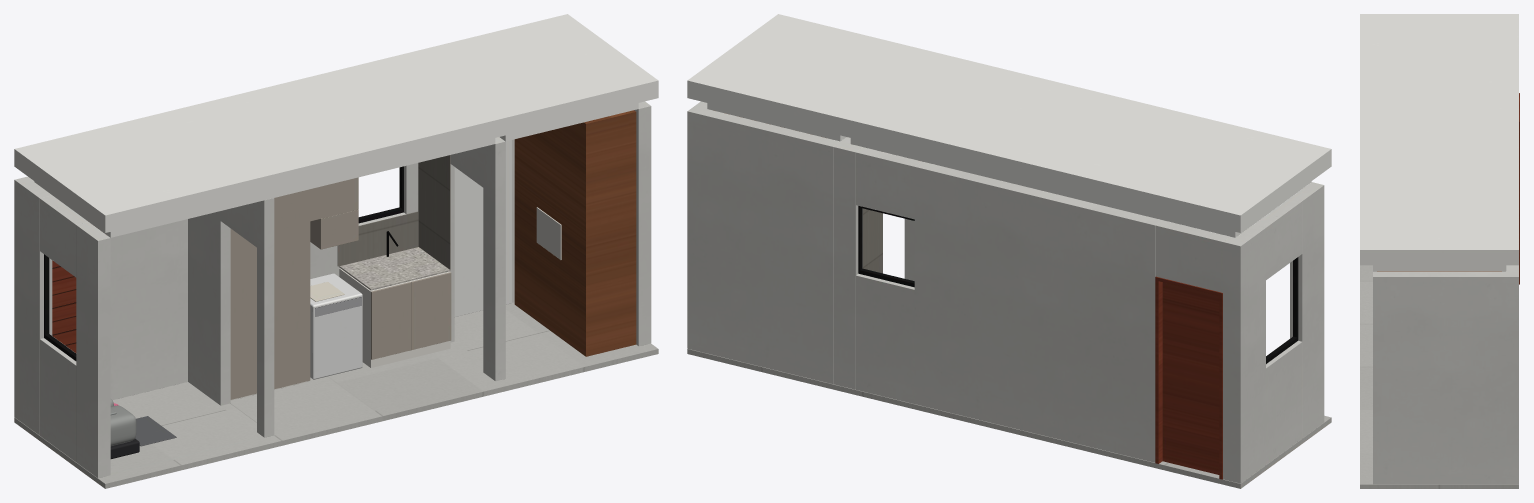
File: casa_servico.glb
The picture shows the model from 3 angles, left to right: view 1: azimuth 30°, elevation 25°; view 2: azimuth 150°, elevation 25°; view 3: azimuth 270°, elevation 25°; orthographic projection. The views are drawn at different scales.
Parts seen in each view (by area): view 1: ZONA_servico; view 2: ZONA_servico; view 3: ZONA_servico.
Part boxes in pixels (x1,y1,x2,y2): ZONA_servico: (14, 14, 658, 488); ZONA_servico: (687, 14, 1331, 488); ZONA_servico: (1360, 14, 1519, 488).
Size of the model in its own units: 6.59 by 3.11 by 1.88.
1 material, 1 textured.
